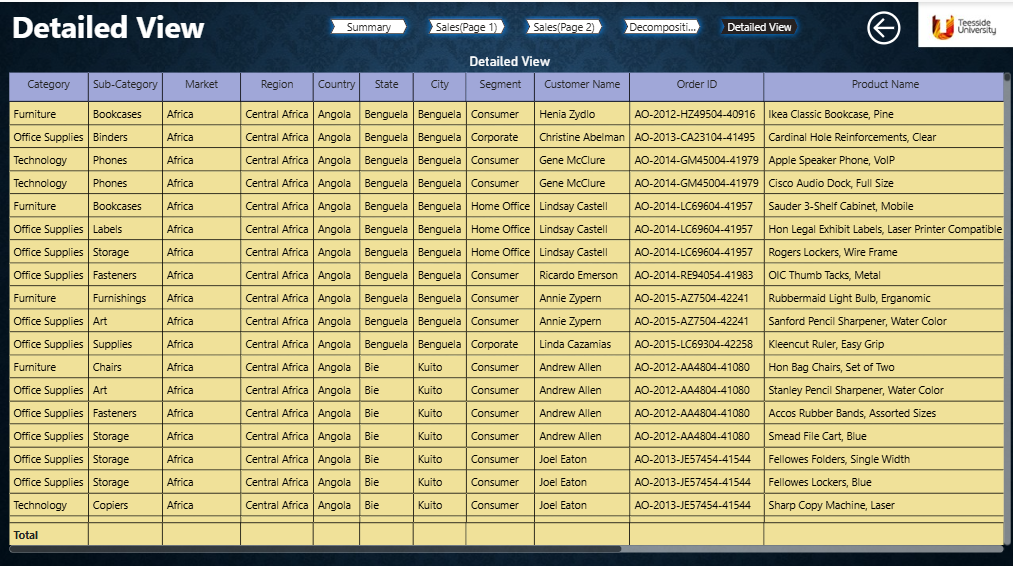

The dashboard page shown, as its layout file describes it:
{"tool":"powerbi","page":{"name":"Detailed View","canvas":[1280,720],"ordinal":4},"visuals":[{"type":"textbox","box":[9.5,0,332.4,65.2],"z":0},{"type":"tableEx","title":"Detailed View ","fields":{"Values":["Product.Category","Product.Sub-Category","Orders.Market","Orders.Region","Orders.Country","Orders.State","Orders.City","Customer.Segment","Customer.Customer Name","Orders.Order ID","Product.Product Name","Orders.Order Date"]},"box":[6.5,64.9,1272.8,634.2],"z":1000},{"type":"actionButton","box":[1087.3,5.1,55.6,53.9],"z":2000},{"type":"pageNavigator","box":[408,14,605.2,35.4],"z":2001}]}

Visuals, with their boxes in screenshot pixels (x1, y1, x2, y2), scaled from the page's 1280x720 canvas onto the 1013x566 screenshot:
textbox: [8,0,271,51]
"Detailed View " tableEx: [5,51,1012,550]
actionButton: [860,4,904,46]
pageNavigator: [323,11,802,39]
